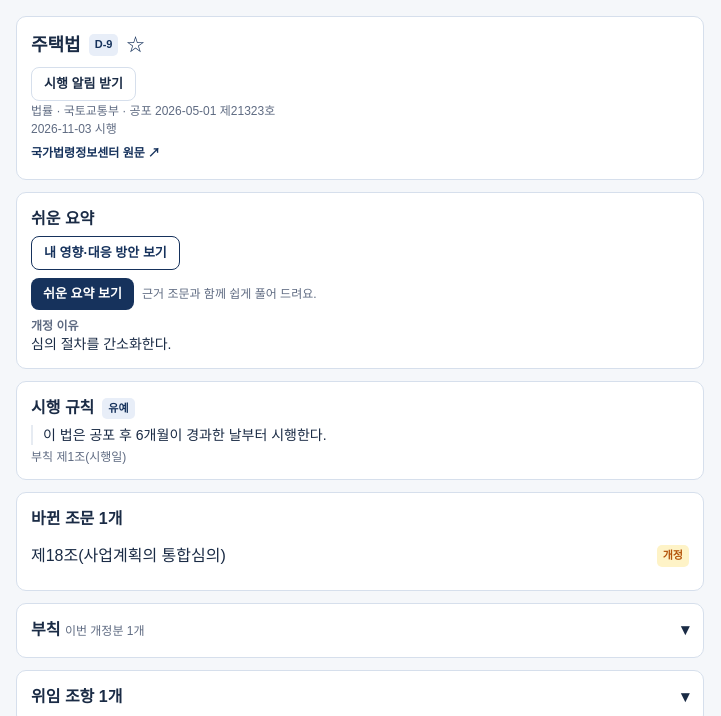
Test: LawDetailView › 바뀐 조문 — 고유 주소, 펼치면 현행↔개정 대비
Click the button "제18조(사업계획의 통합심의) 개정": [128, 555] box left=31, top=536, right=689, bottom=576
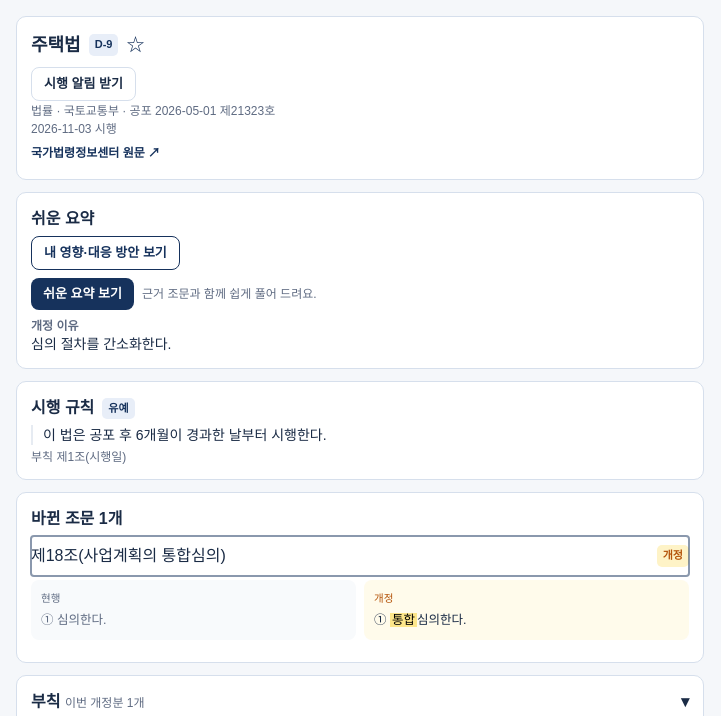
Check: the text "현행" is shown, box left=41, top=592, right=60, bottom=604
